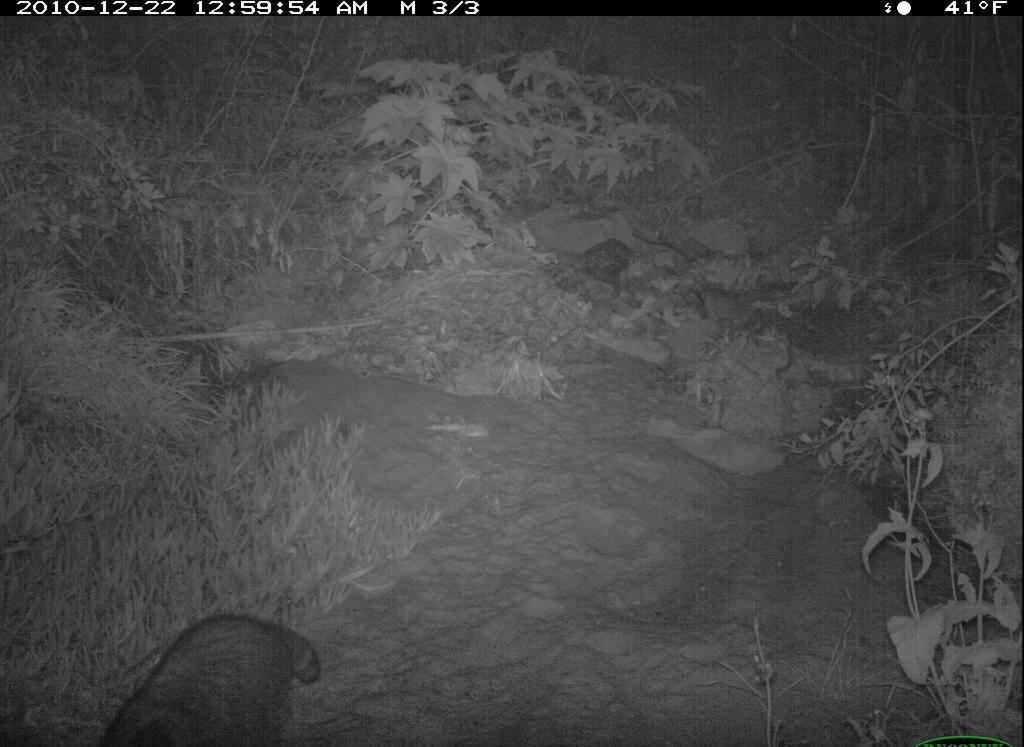raccoon: (95, 607, 331, 747)
